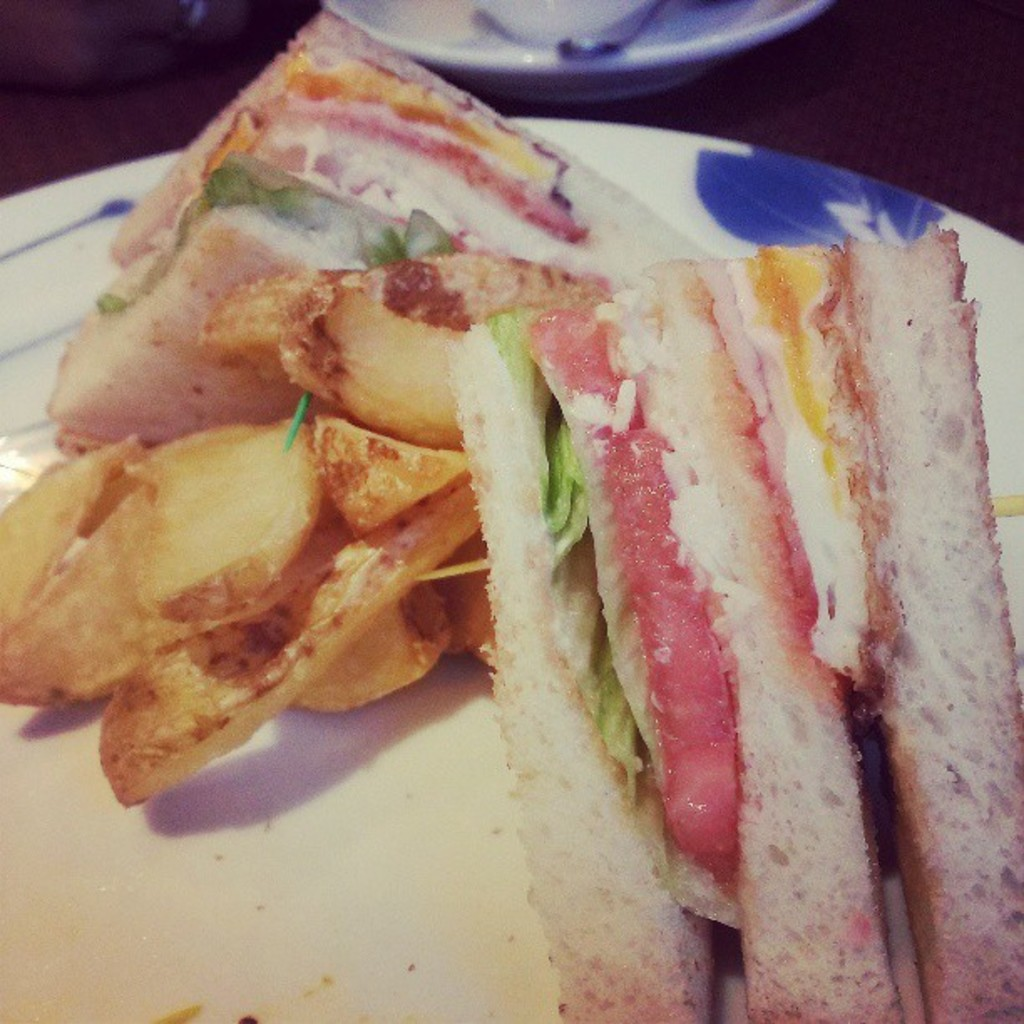sandwich: (443, 224, 1022, 1022), (47, 0, 724, 458)
